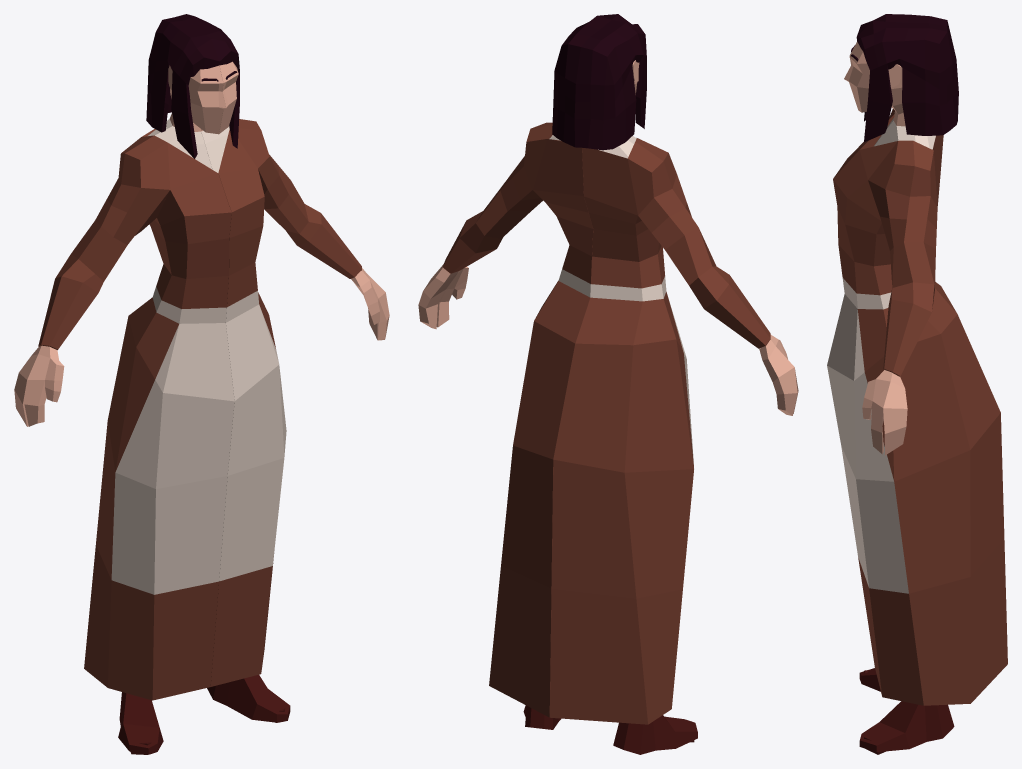
The model's file is mulheres_kkk.fbx.
3 renders of one model, left to right at view 1: azimuth 30°, elevation 25°; view 2: azimuth 150°, elevation 25°; view 3: azimuth 270°, elevation 25°, orthographic.
Parts seen in each view (by area): view 1: girl; view 2: girl; view 3: girl.
Part boxes in pixels (x1,y1,x2,y2): girl: (14,14,389,754); girl: (418,14,798,754); girl: (827,14,1007,754).
Size of the model in its own units: 93.26 by 170 by 40.05.
